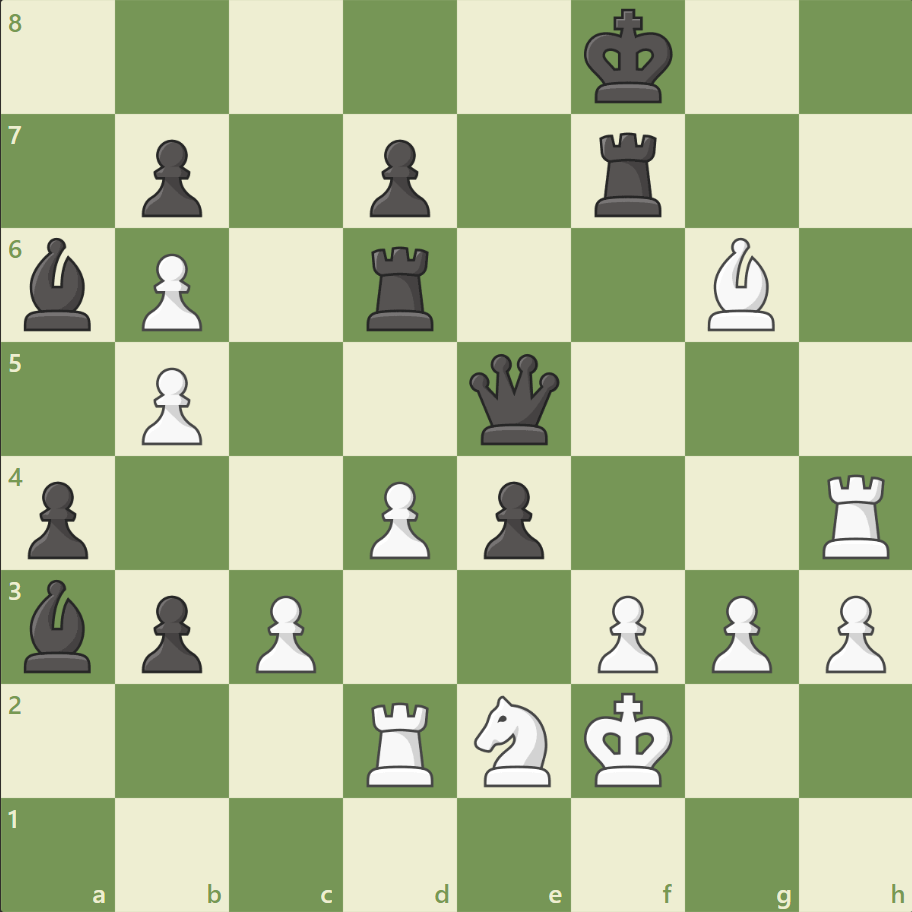B: (698, 233, 782, 336)
K: (579, 685, 679, 793)
N: (465, 688, 562, 791)
P: (133, 246, 208, 337), (133, 359, 208, 450), (247, 586, 322, 677), (701, 586, 776, 677), (361, 473, 435, 564), (588, 586, 662, 677), (815, 586, 889, 677)
R: (814, 466, 897, 563), (360, 693, 442, 790)
b: (17, 233, 101, 336), (17, 574, 101, 676)
k: (579, 4, 679, 112)
p: (133, 132, 208, 223), (20, 473, 95, 564), (474, 473, 549, 564), (133, 586, 208, 677), (361, 132, 435, 223)
q: (464, 349, 563, 449)
r: (587, 125, 670, 222), (360, 239, 442, 336)
